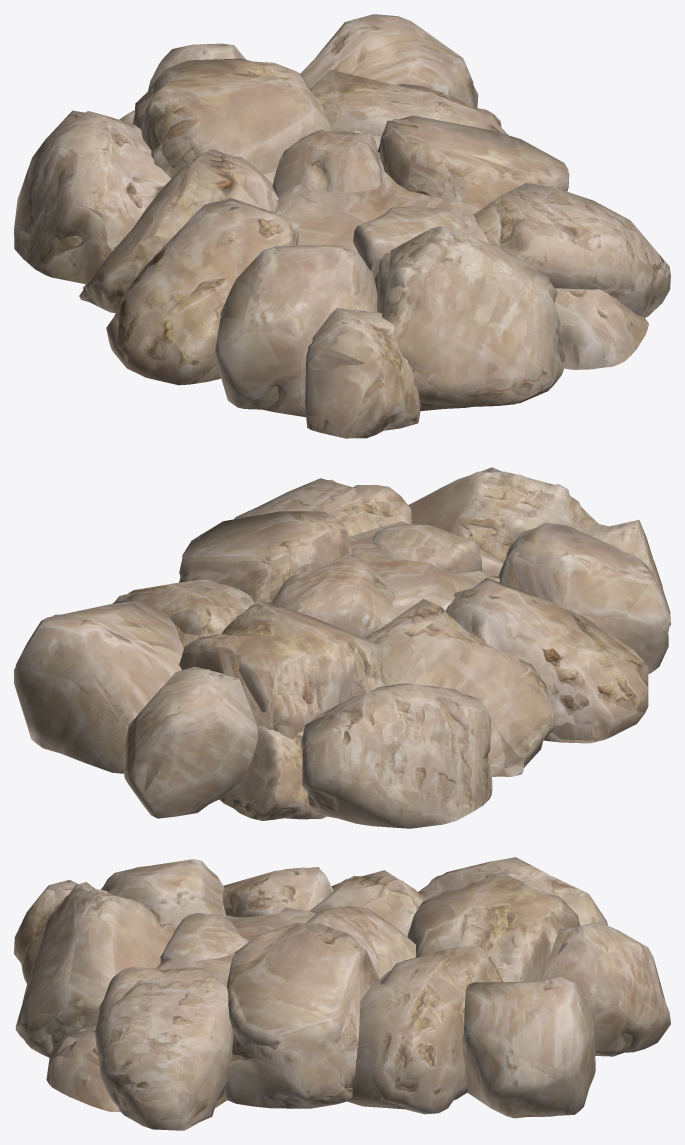
The model's file is Stonegroup.FBX.
3 views of the same model, one above another, from view 1: azimuth 30°, elevation 25°; view 2: azimuth 150°, elevation 25°; view 3: azimuth 270°, elevation 25° (orthographic). The views are drawn at different scales.
Parts seen in each view (by area): view 1: StoneGroup_Lod, StoneGroup; view 2: StoneGroup_Lod, StoneGroup; view 3: StoneGroup_Lod, StoneGroup.
Boxes of the visible parts, x1=… form: StoneGroup_Lod: x1=14, y1=14, x2=669, y2=438; StoneGroup: x1=16, y1=16, x2=670, y2=438; StoneGroup_Lod: x1=15, y1=471, x2=670, y2=822; StoneGroup: x1=14, y1=467, x2=670, y2=828; StoneGroup_Lod: x1=14, y1=857, x2=668, y2=1120; StoneGroup: x1=14, y1=865, x2=670, y2=1130.
Bounding box in the file's own units: 2.74 × 0.5979 × 2.13.
